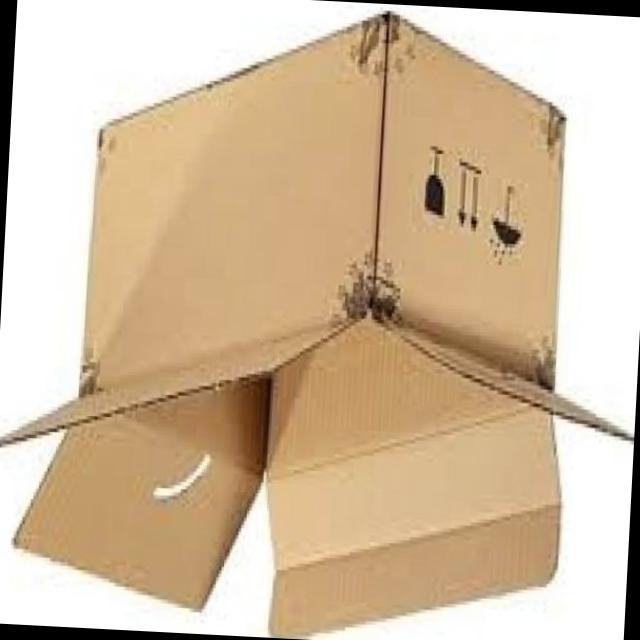cardboard paper: (0, 8, 634, 639)
